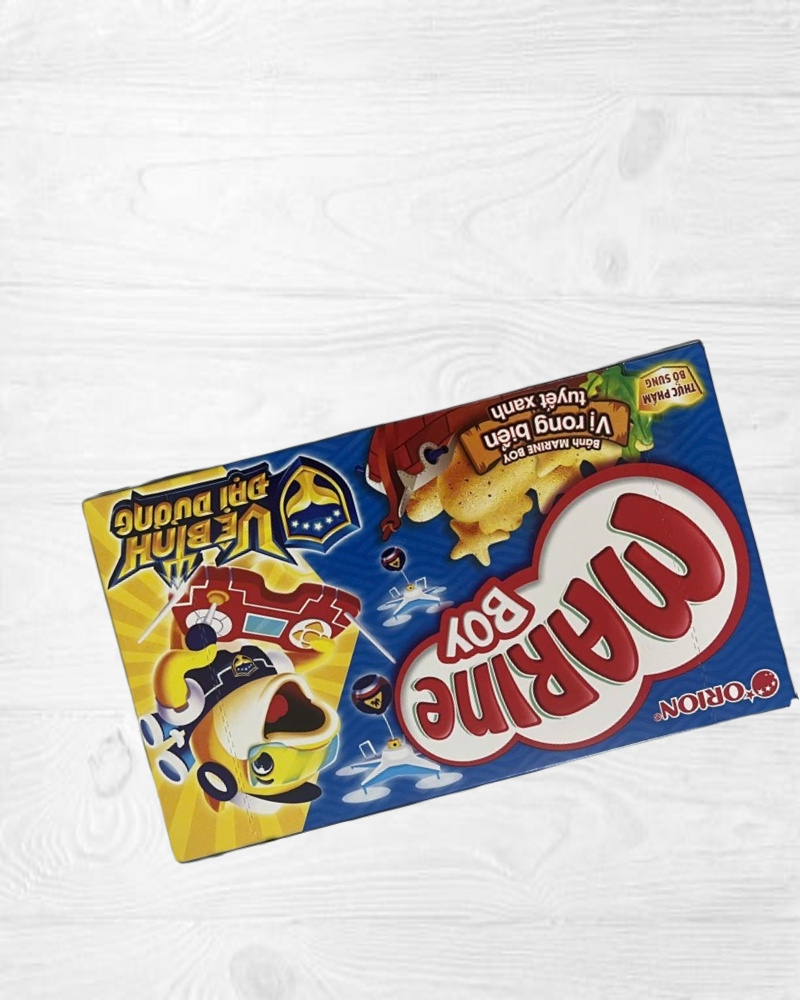Marine: (78, 334, 800, 870)
